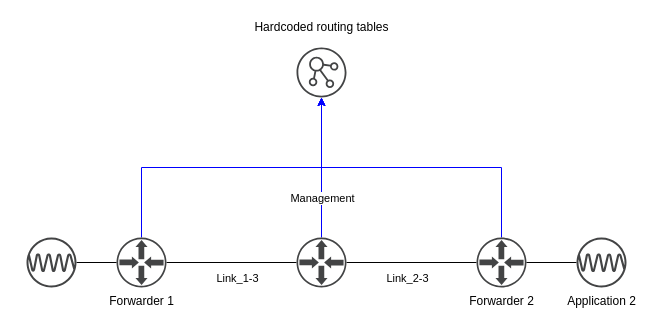
Some shapes in this 653 by 325 pixel diagram are drawn without their labels. Each missing label, with the centre of its shape:
Application 1: [51,262]
Forwarder 3: [321,262]
